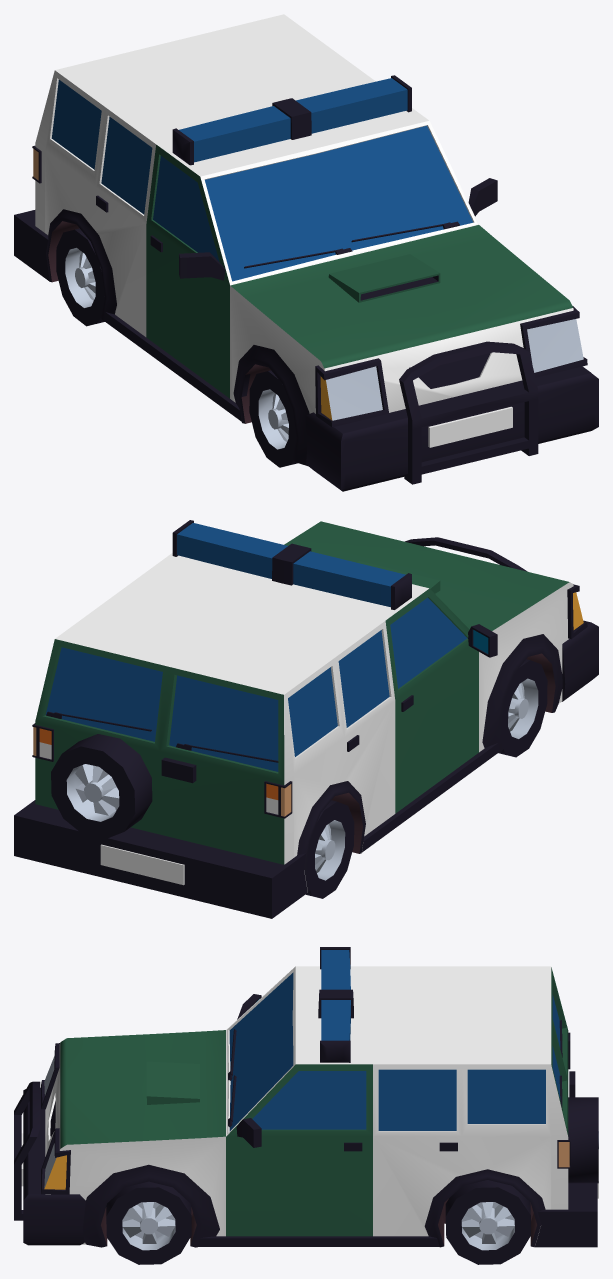
The model's file is tricornio.glb.
The picture shows the model from 3 angles, top to bottom: view 1: azimuth 30°, elevation 25°; view 2: azimuth 150°, elevation 25°; view 3: azimuth 270°, elevation 25°; orthographic projection. The views are drawn at different scales.
Parts seen in each view (by area): view 1: body, wheel_br, wheel_fr; view 2: body, wheel_br, wheel_fr; view 3: body, wheel_bl, wheel_fl.
Boxes of the visible parts, x1,y1,x2,y2 form: body: (14, 14, 598, 491); wheel_br: (56, 228, 104, 326); wheel_fr: (249, 370, 297, 467); body: (14, 520, 598, 918); wheel_br: (305, 800, 354, 898); wheel_fr: (498, 659, 547, 757); body: (14, 947, 598, 1247); wheel_bl: (445, 1180, 530, 1264); wheel_fl: (106, 1181, 191, 1264).
Size of the model in its own units: 3.5 by 2.61 by 6.36.
1 material, 1 textured.
